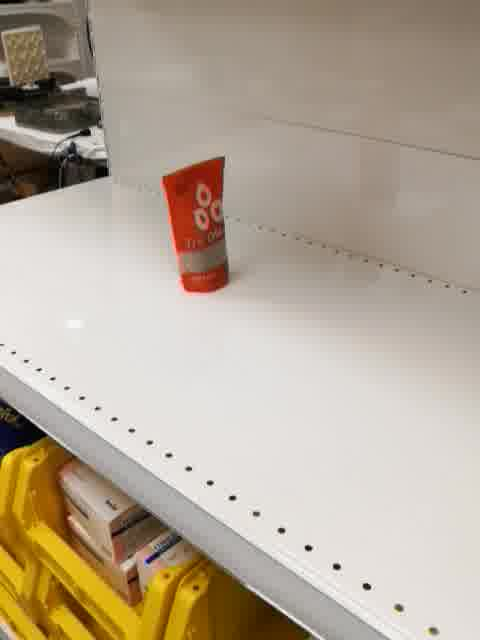whitechia: (159, 146, 230, 296)
